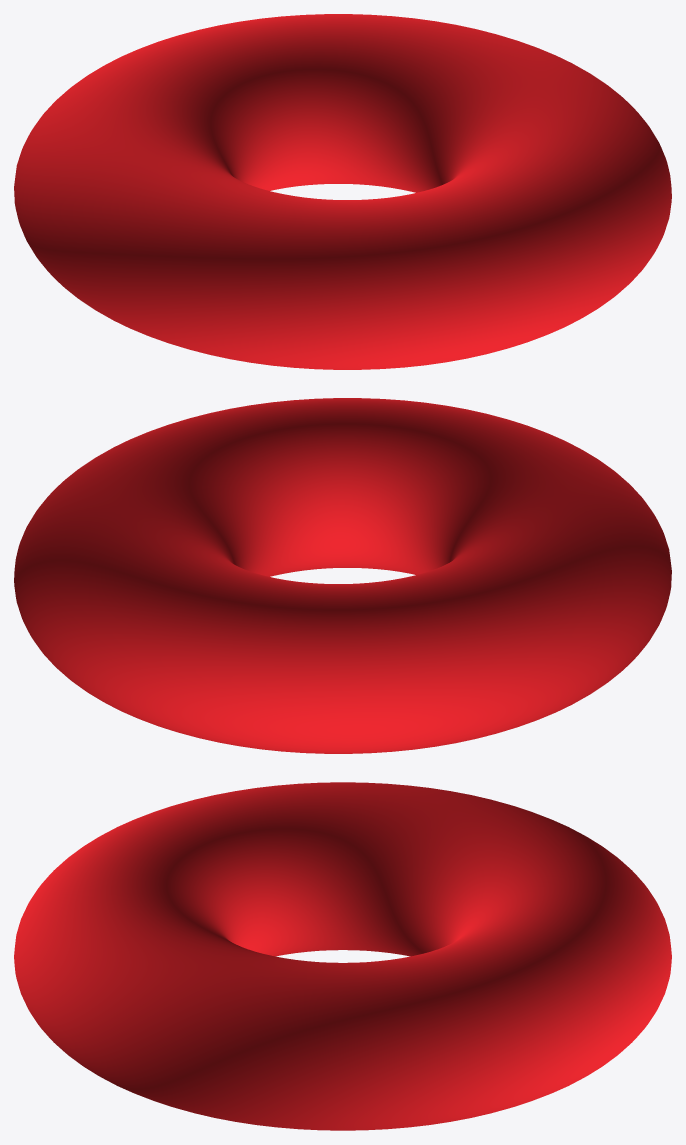
File: Toroide3.obj
3 views of the same model, one above another, from view 1: azimuth 30°, elevation 25°; view 2: azimuth 150°, elevation 25°; view 3: azimuth 270°, elevation 25° (orthographic).
Visible parts, largest first — view 1: mesh_id34; view 2: mesh_id34; view 3: mesh_id34.
Part boxes in pixels (box(x1,y1,x2,y2)): mesh_id34: box(14, 14, 671, 369); mesh_id34: box(14, 398, 671, 753); mesh_id34: box(14, 782, 671, 1130).
Size of the model in its own units: 0.5758 by 0.137 by 0.5852.
1 material, 1 textured.
